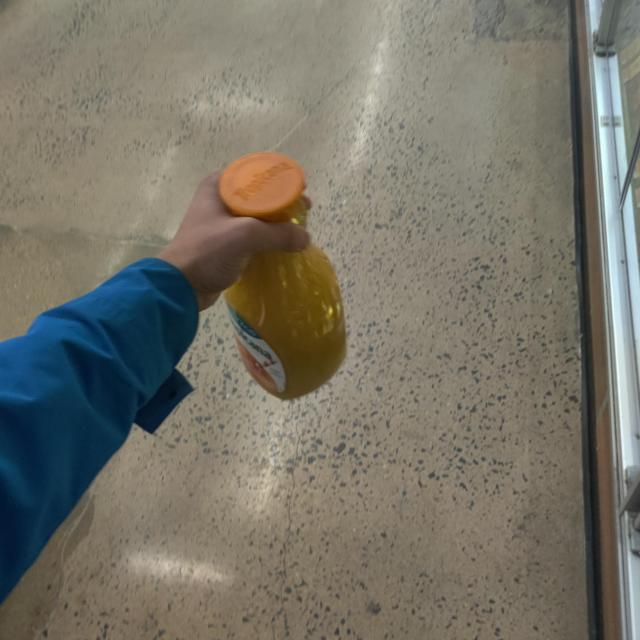Juice: (214, 154, 350, 401)
